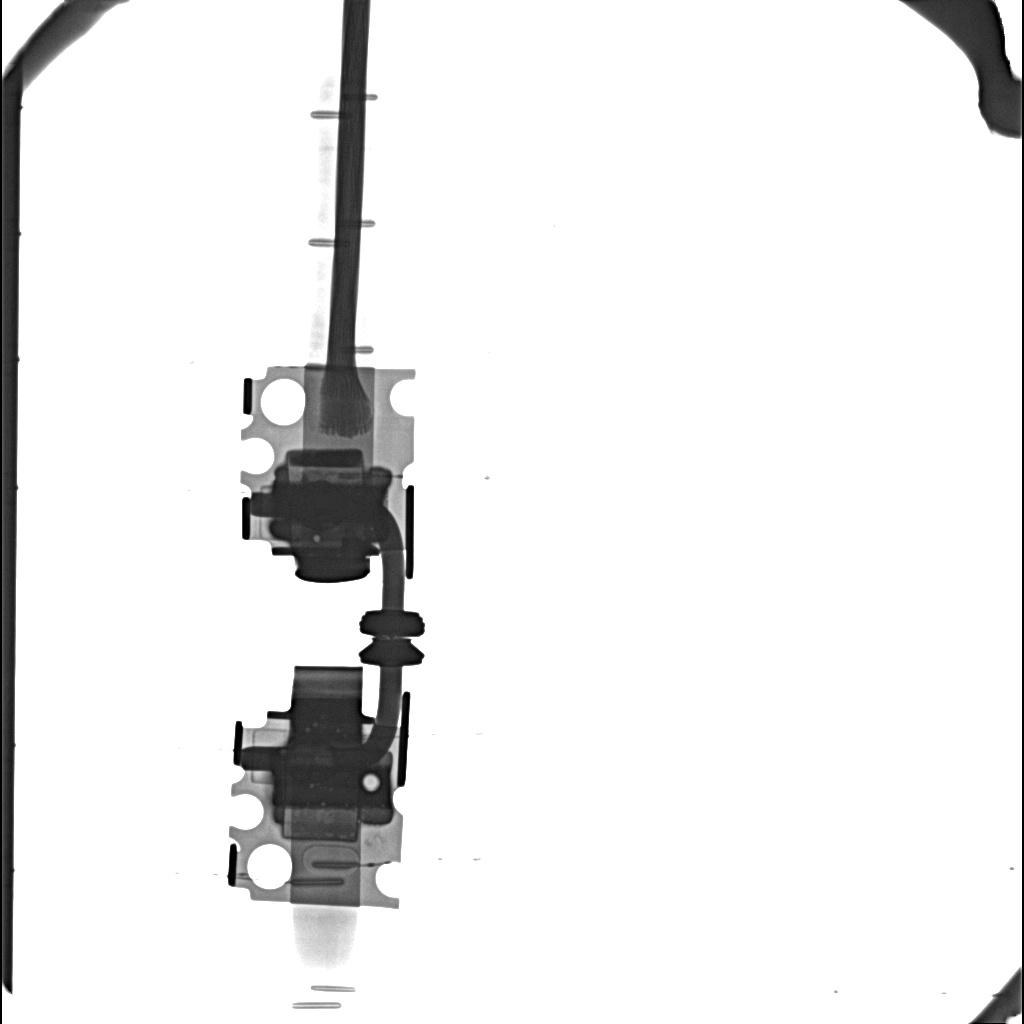气孔: (285, 447, 366, 481), (280, 808, 360, 842)
气泡: (313, 534, 321, 543)
水纹: (274, 767, 390, 807), (273, 486, 383, 522)
